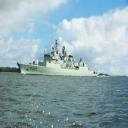Fragata: (18, 38, 99, 78)
